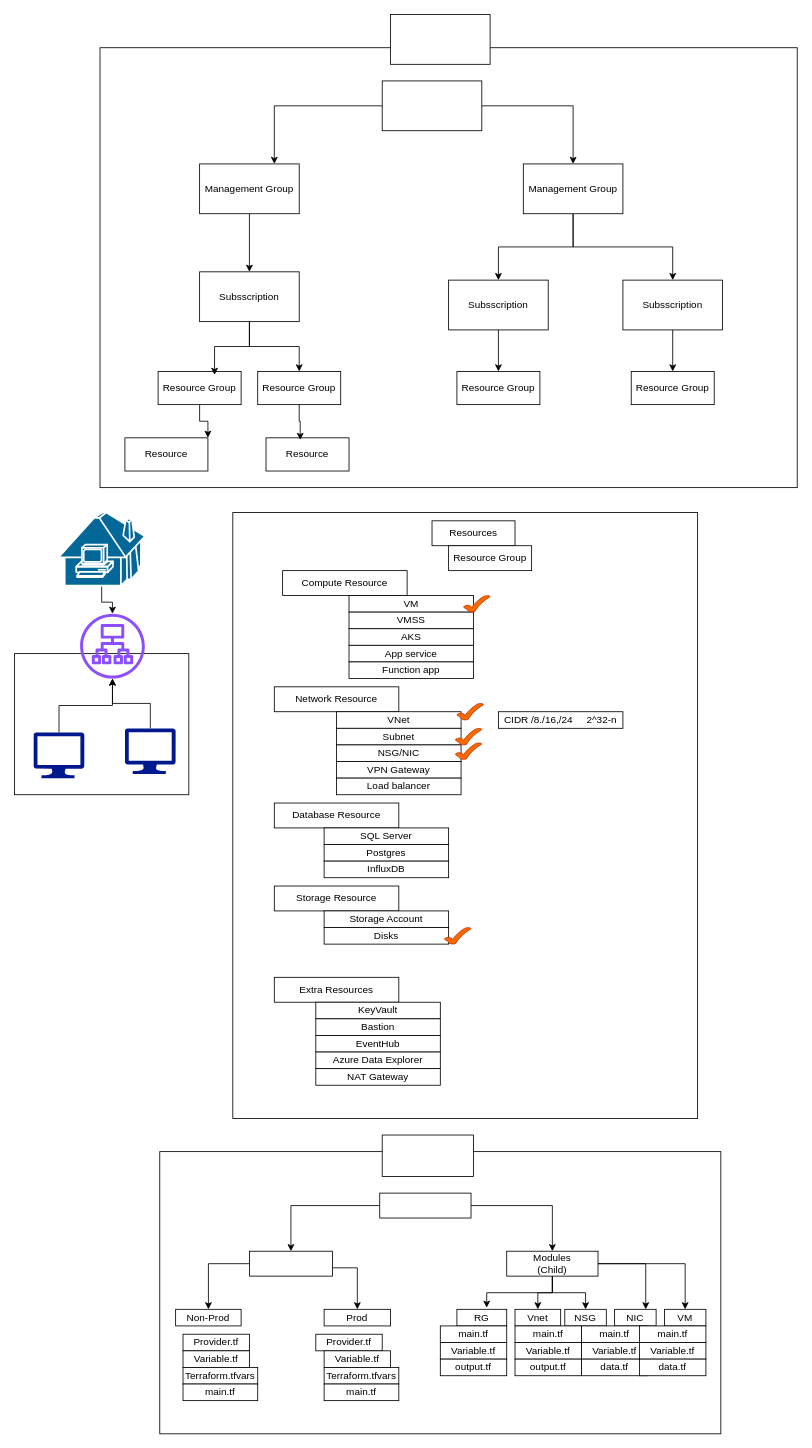
This 812x1448 diagram has some shape labels left out. Here are the shapes that lost their labels. From the top down, the centre of each, then its label:
At [440,39]: "Azure Hirerchy".
At [431,105]: "Tennant Group".
At [427,1155]: "Workflow".
At [425,1205]: "TerraformRivision {Grandparent)".
At [290,1263]: "Enviroment (Parent)".
